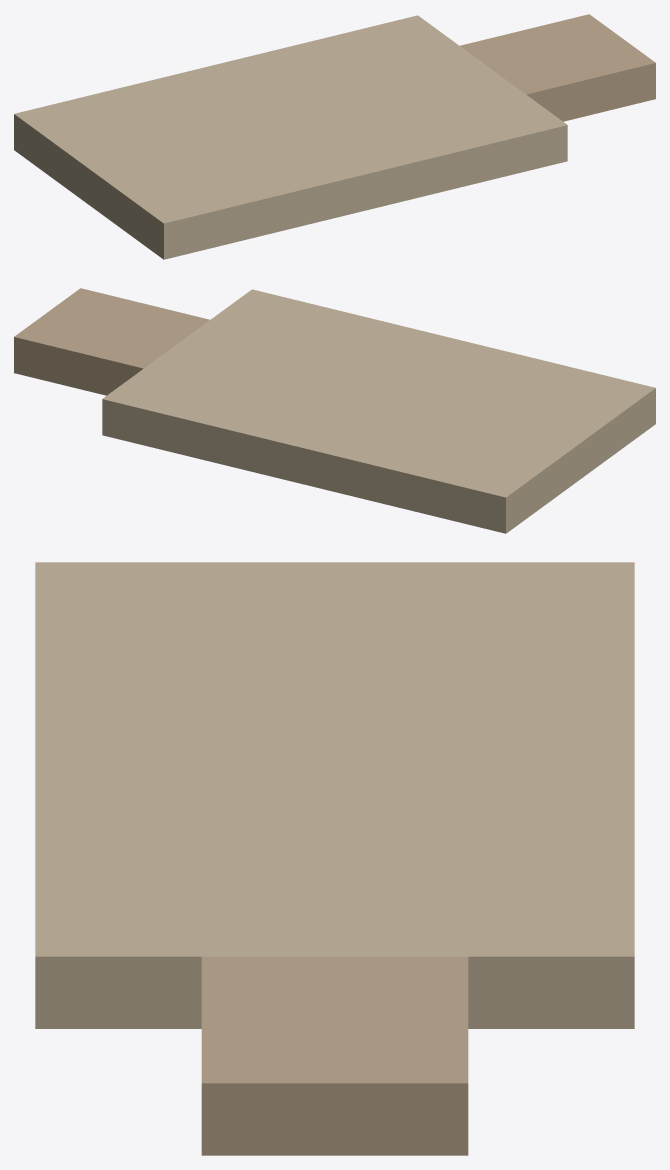
File: kit_sub_tabuinha.glb
3 renders of one model, top to bottom at view 1: azimuth 30°, elevation 25°; view 2: azimuth 150°, elevation 25°; view 3: azimuth 270°, elevation 25°, orthographic. The views are drawn at different scales.
Parts seen in each view (by area): view 1: KIT_Sub_Tabuinha_v01; view 2: KIT_Sub_Tabuinha_v01; view 3: KIT_Sub_Tabuinha_v01.
Boxes of the visible parts, x1=… form: KIT_Sub_Tabuinha_v01: x1=14, y1=14, x2=655, y2=259; KIT_Sub_Tabuinha_v01: x1=14, y1=288, x2=655, y2=533; KIT_Sub_Tabuinha_v01: x1=35, y1=562, x2=634, y2=1155.
Bounding box in the file's own units: 0.37 × 0.024 × 0.18.
